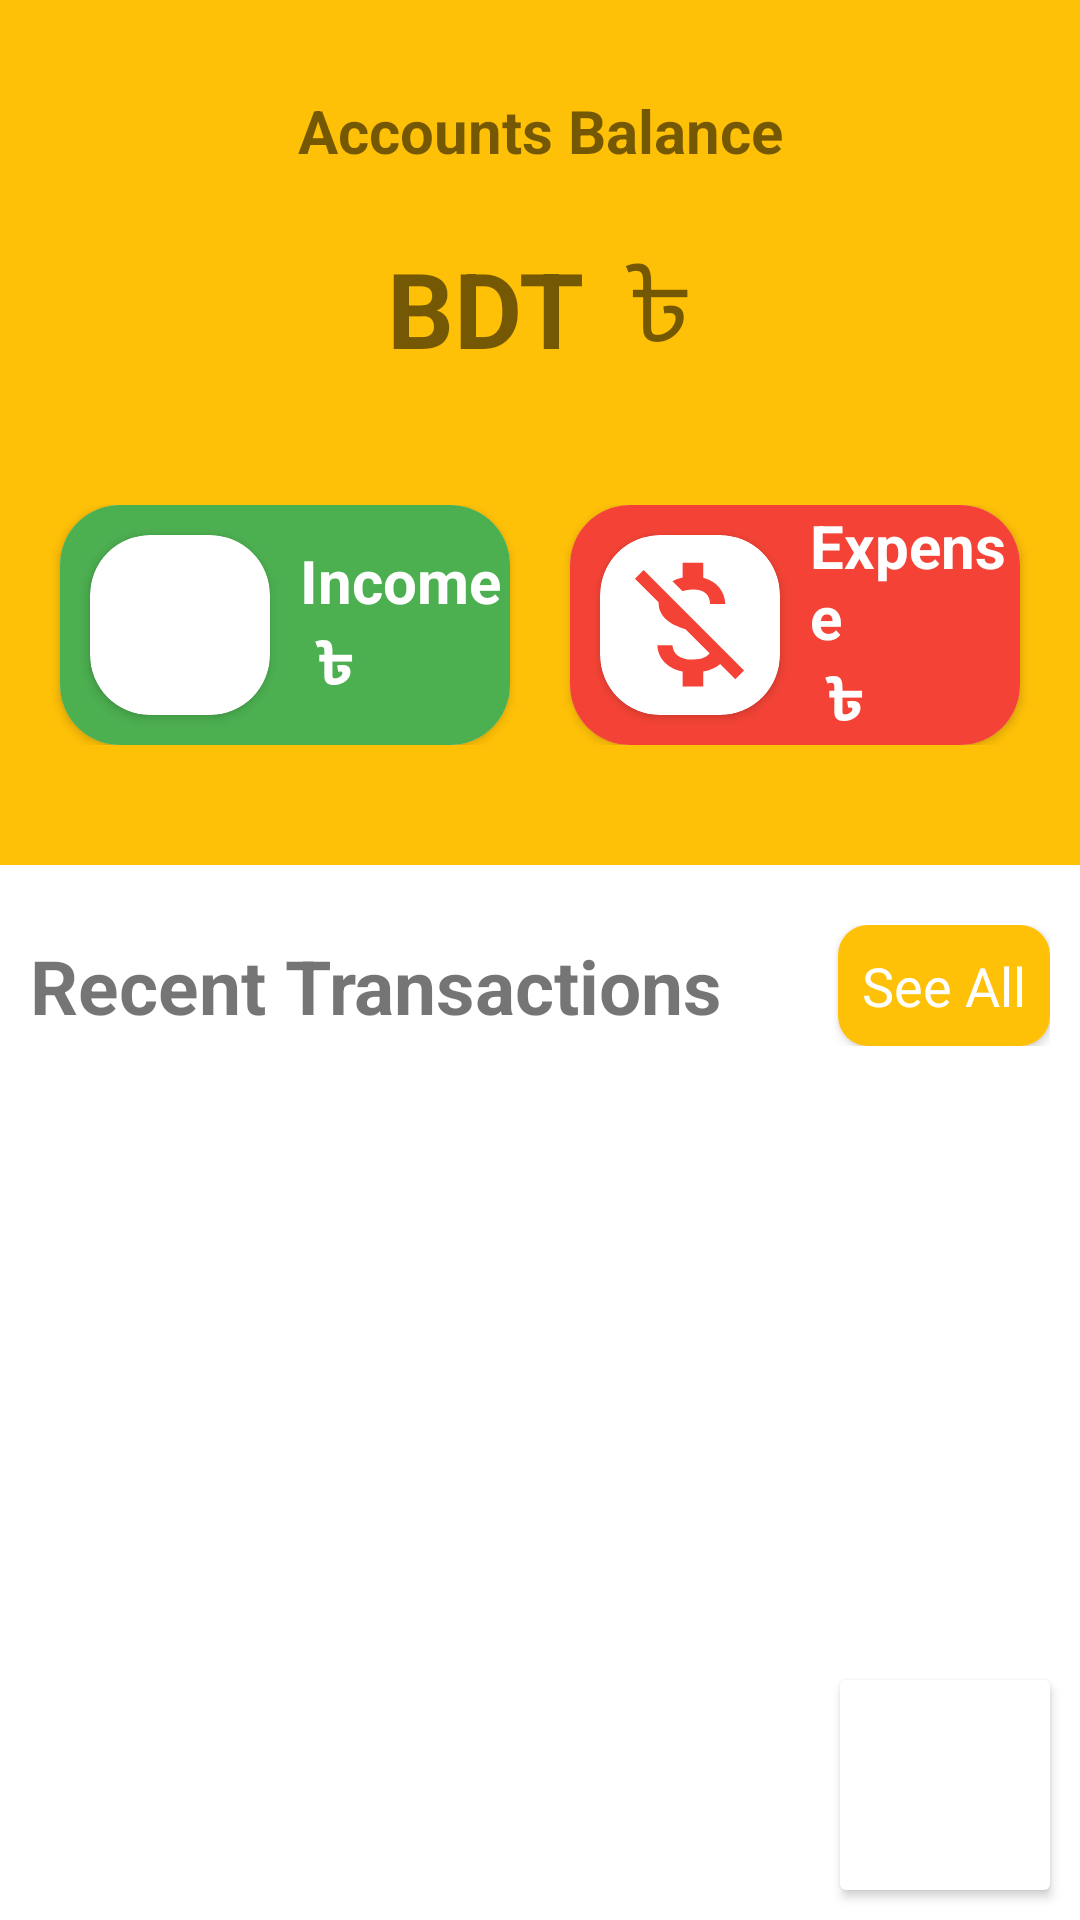

Named icons in this screenshot (1080w x 1920h) and their centers, (x=x, y=y):
money off: (x=689, y=624)
